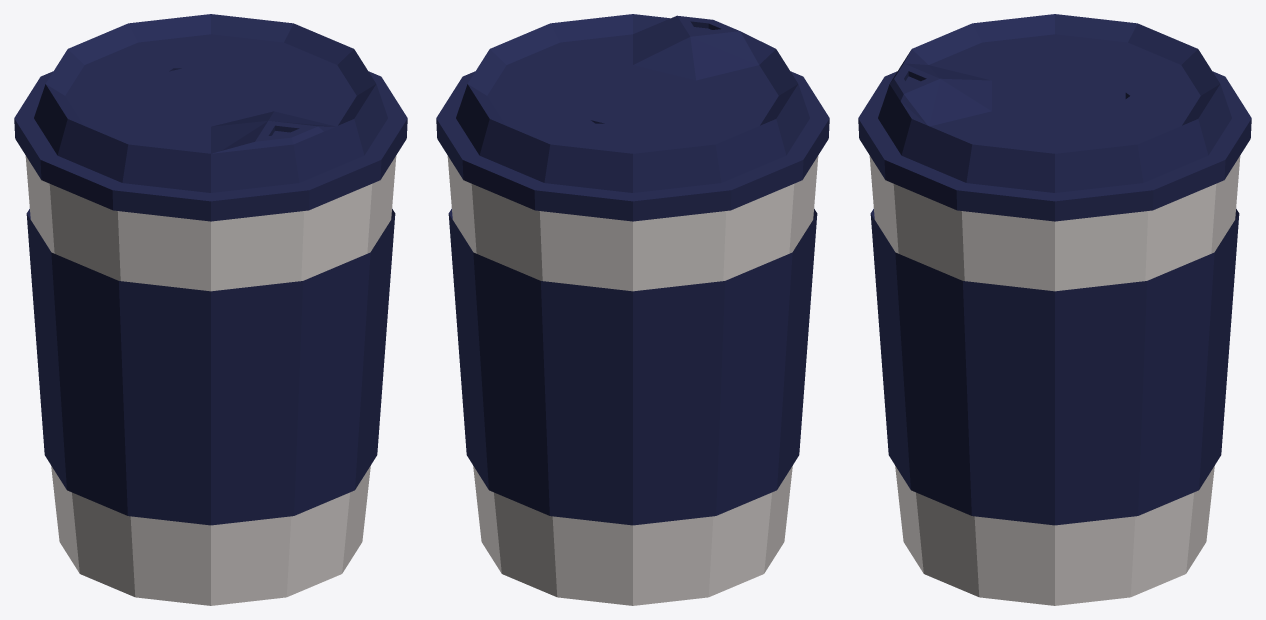
File: coffee.glb
3 views of the same model, side by side, from view 1: azimuth 30°, elevation 25°; view 2: azimuth 150°, elevation 25°; view 3: azimuth 270°, elevation 25° (orthographic).
Parts seen in each view (by area): view 1: Object_4; view 2: Object_4; view 3: Object_4.
Part boxes in pixels (bbox=[...]): Object_4: bbox=[14, 14, 407, 605]; Object_4: bbox=[436, 14, 829, 605]; Object_4: bbox=[858, 14, 1251, 605].
Bounding box in the file's own units: 2.08 × 2.7 × 2.08.
1 material, 1 textured.
